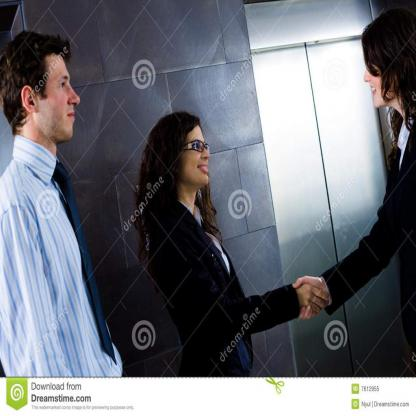face: (39, 56, 80, 139), (365, 37, 398, 107), (181, 122, 211, 187)
